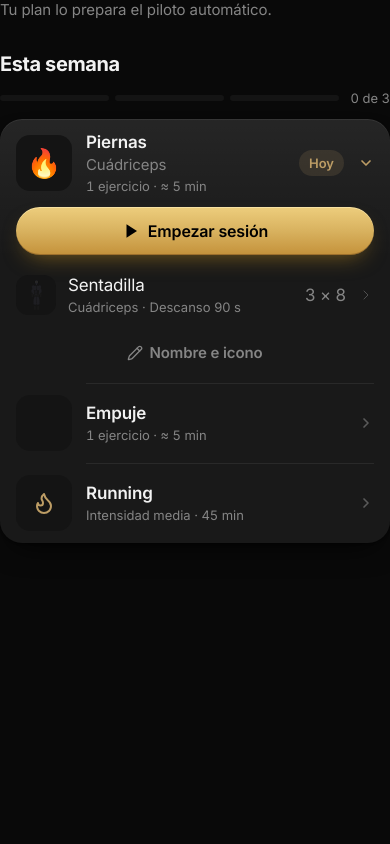
Test: routine in order › personalizes a session name and icon with the suggestion
Later steps or results of the test are not shown.
Click the button "Nombre e icono".
click(195, 353)  # box 111,331 -> 279,375
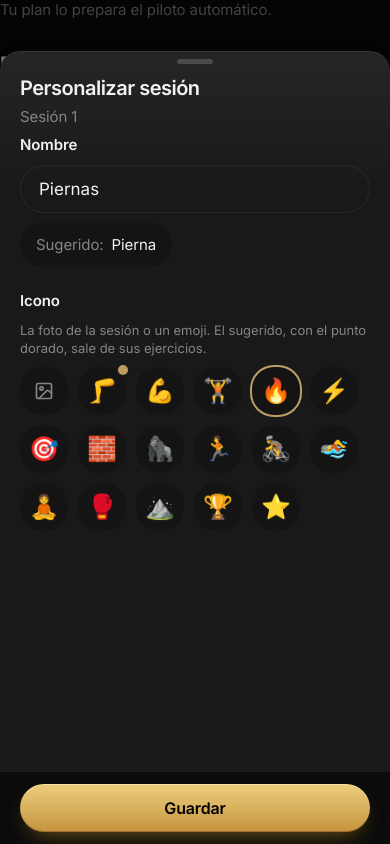
Result: the heading "Personalizar sesión" is shown at 20,76 -> 200,100
